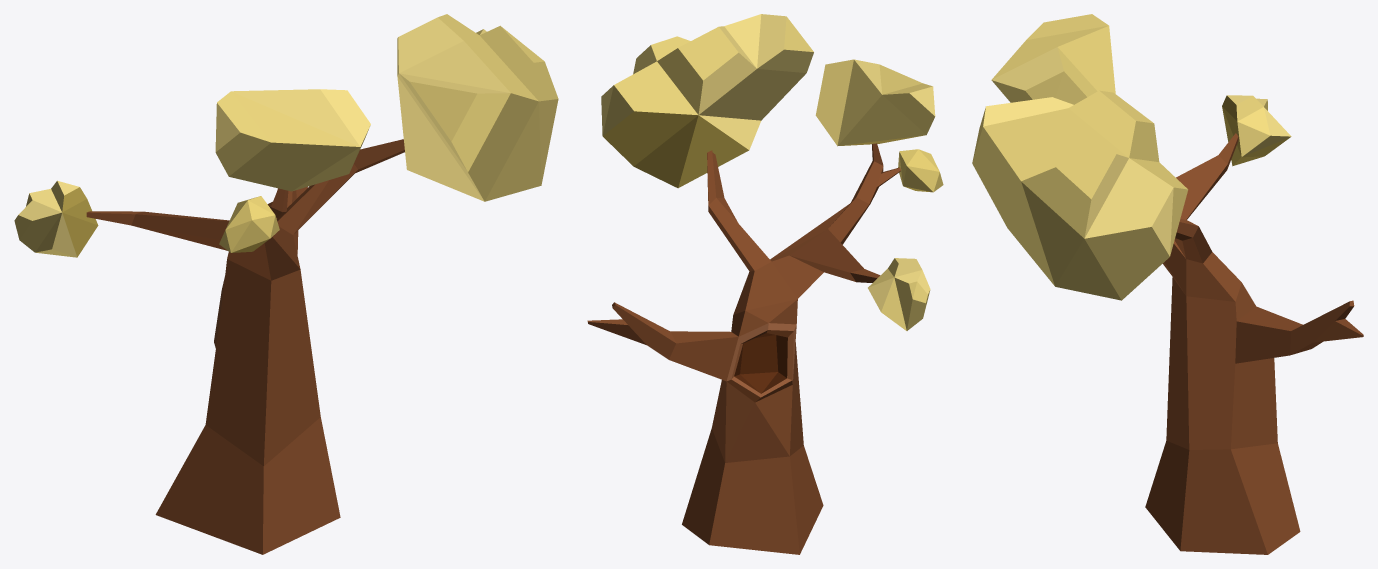
File: TreeAutumn1_Alt2.fbx
The picture shows the model from 3 angles, left to right: view 1: azimuth 30°, elevation 25°; view 2: azimuth 150°, elevation 25°; view 3: azimuth 270°, elevation 25°; orthographic projection. The views are drawn at different scales.
Parts seen in each view (by area): view 1: TreeAutumn1_Alt2; view 2: TreeAutumn1_Alt2; view 3: TreeAutumn1_Alt2.
Part boxes in pixels (box(x1,y1,x2,y2)): TreeAutumn1_Alt2: box(14, 14, 558, 554); TreeAutumn1_Alt2: box(587, 14, 943, 554); TreeAutumn1_Alt2: box(972, 14, 1363, 554).
Size of the model in its own units: 1.78 by 1.96 by 1.44.
